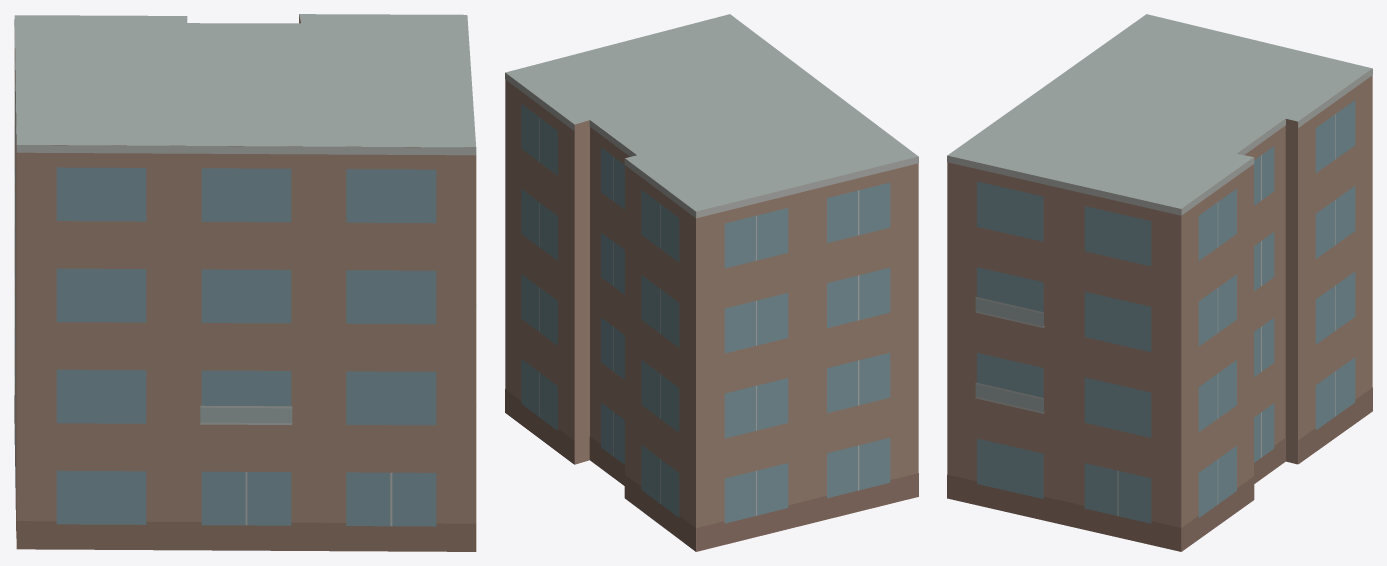
Rendered from survey-upis-32706595.glb.
3 renders of one model, left to right at view 1: azimuth 30°, elevation 25°; view 2: azimuth 150°, elevation 25°; view 3: azimuth 270°, elevation 25°, orthographic. The views are drawn at different scales.
Visible parts, largest first — view 1: survey-upis-32706595.tmp; view 2: survey-upis-32706595.tmp; view 3: survey-upis-32706595.tmp.
Boxes of the visible parts, <box> form: survey-upis-32706595.tmp: <box>14,14,476,551</box>; survey-upis-32706595.tmp: <box>505,14,918,551</box>; survey-upis-32706595.tmp: <box>947,14,1372,551</box>.
Size of the model in its own units: 15.25 by 12.5 by 14.07.
